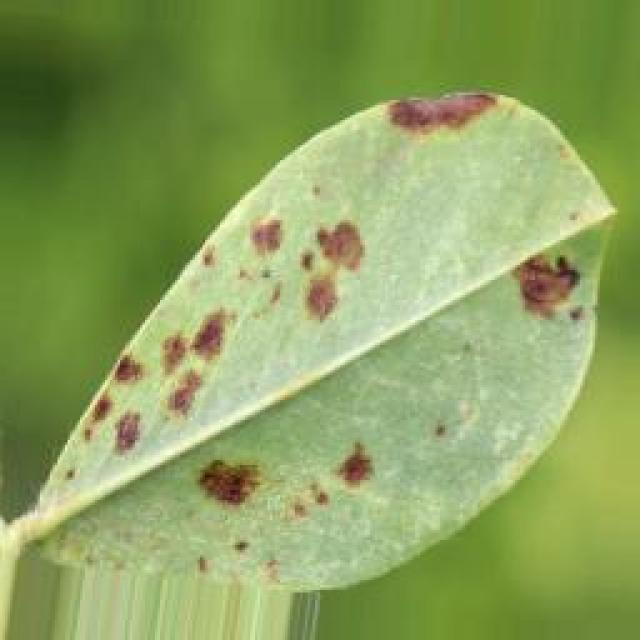Whitefly: (71, 85, 603, 534)
